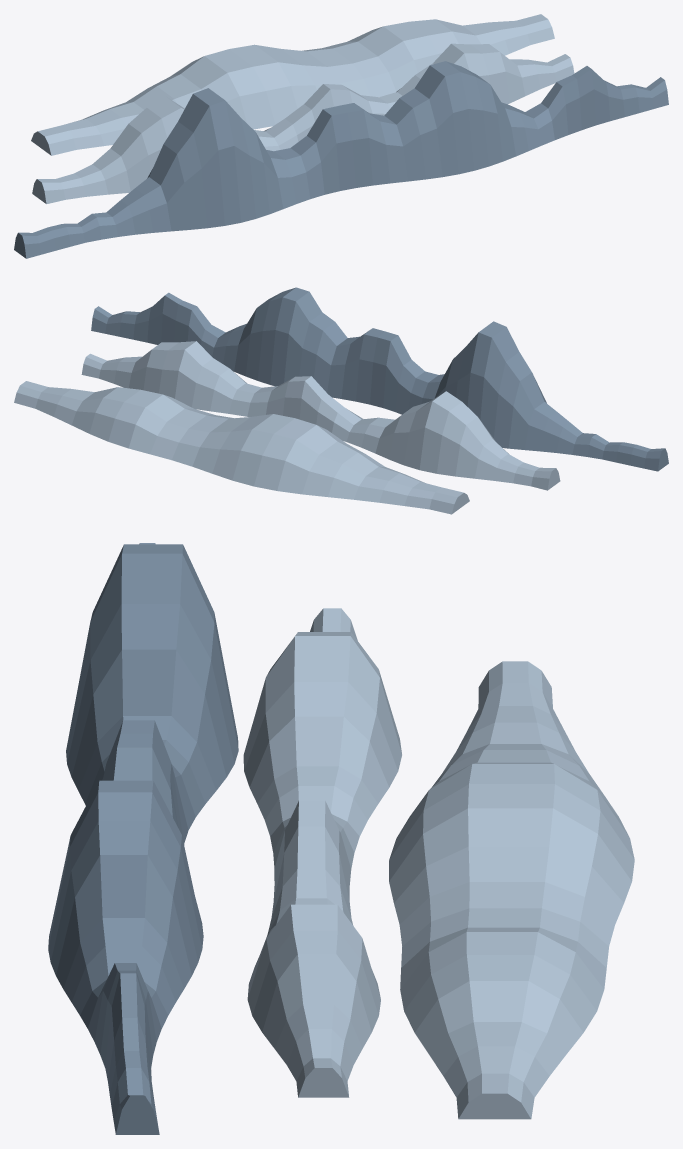
File: DistantIsleL.fbx
The picture shows the model from 3 angles, top to bottom: view 1: azimuth 30°, elevation 25°; view 2: azimuth 150°, elevation 25°; view 3: azimuth 270°, elevation 25°; orthographic projection. The views are drawn at different scales.
Visible parts, largest first — view 1: DistantIsleL; view 2: DistantIsleL; view 3: DistantIsleL.
Part boxes in pixels (<box>): DistantIsleL: <box>14,14,668,258</box>; DistantIsleL: <box>14,287,668,514</box>; DistantIsleL: <box>48,543,634,1134</box>.
Size of the model in its own units: 18000 by 2980 by 8030.
